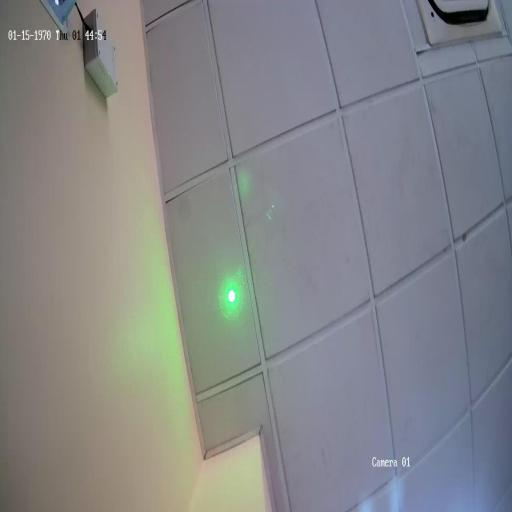laser: (214, 260, 247, 326)
